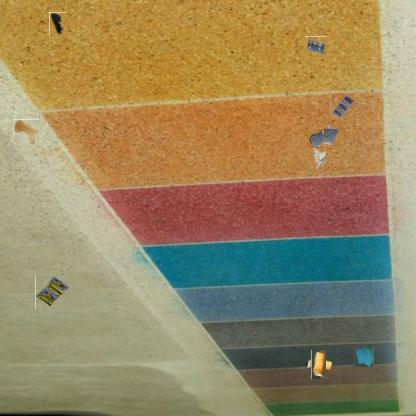dirty: (35, 275, 70, 309), (330, 92, 355, 118), (307, 353, 330, 376), (306, 36, 327, 56), (310, 144, 326, 170), (354, 347, 374, 367), (49, 12, 66, 35)
liquid: (308, 124, 340, 148), (14, 119, 39, 144)
